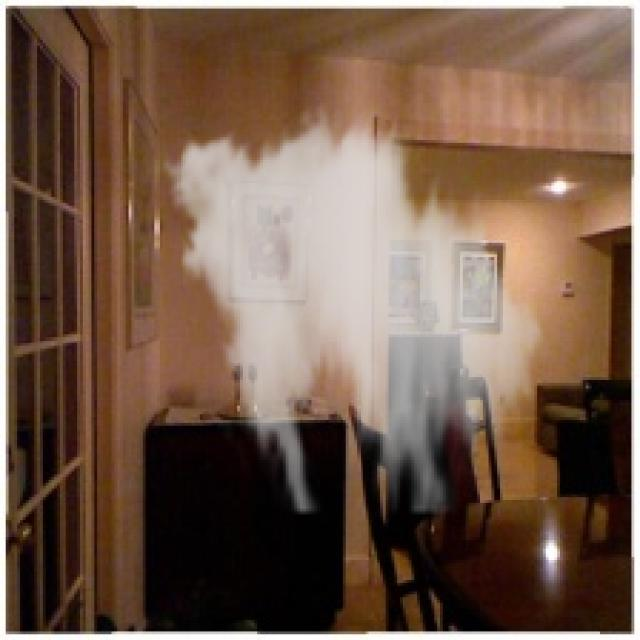smoke: (152, 103, 554, 514)
